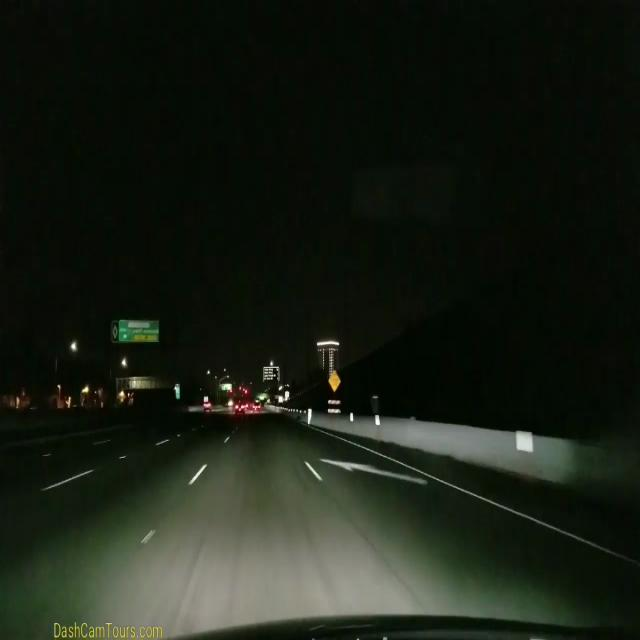street-signs: (118, 319, 159, 342), (262, 366, 280, 383)
